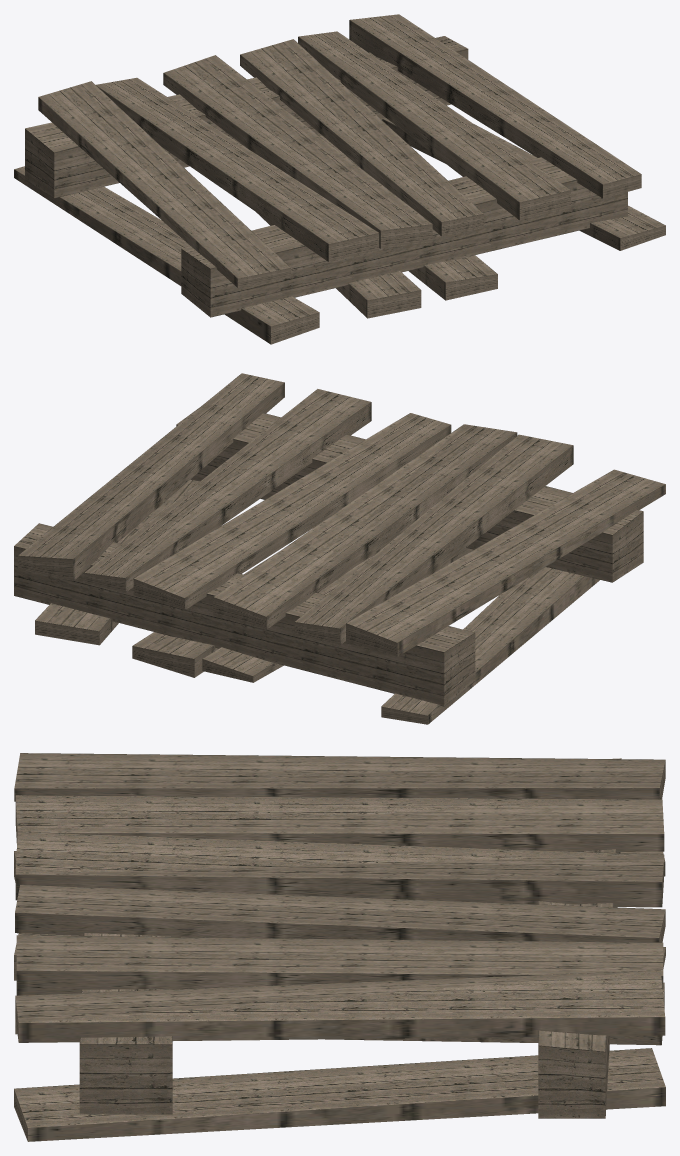
File: palette.obj
3 renders of one model, top to bottom at view 1: azimuth 30°, elevation 25°; view 2: azimuth 150°, elevation 25°; view 3: azimuth 270°, elevation 25°, orthographic. The views are drawn at different scales.
Visible parts, largest first — view 1: palette_L0; view 2: palette_L0; view 3: palette_L0.
Part boxes in pixels (x1,y1,x2,y2): palette_L0: (14,14,665,344); palette_L0: (14,373,665,724); palette_L0: (14,753,665,1141).
Bounding box in the file's own units: 2.73 × 0.516 × 2.5.
